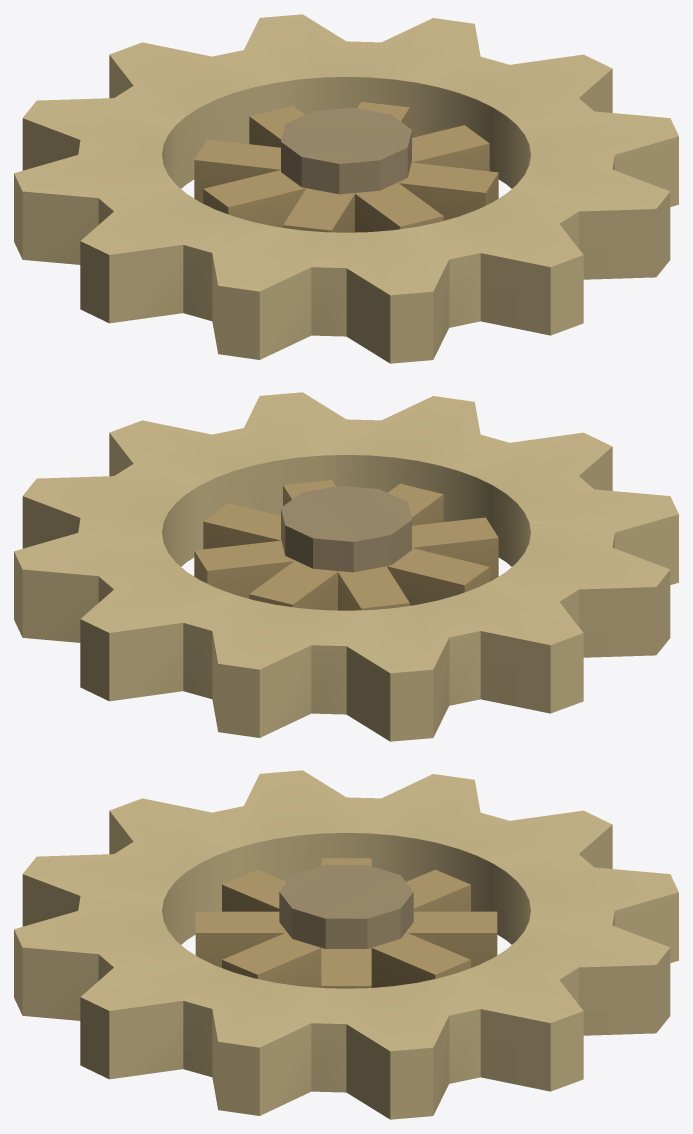
The model's file is prop_gear.glb.
The picture shows the model from 3 angles, top to bottom: view 1: azimuth 30°, elevation 25°; view 2: azimuth 150°, elevation 25°; view 3: azimuth 270°, elevation 25°; orthographic projection.
Parts seen in each view (by area): view 1: prop_gear; view 2: prop_gear; view 3: prop_gear.
Boxes of the visible parts, box(x1,y1,x2,y2) form: prop_gear: box(14, 14, 678, 363); prop_gear: box(14, 392, 678, 741); prop_gear: box(14, 770, 678, 1119).
Size of the model in its own units: 0.7932 by 0.14 by 0.7932.
